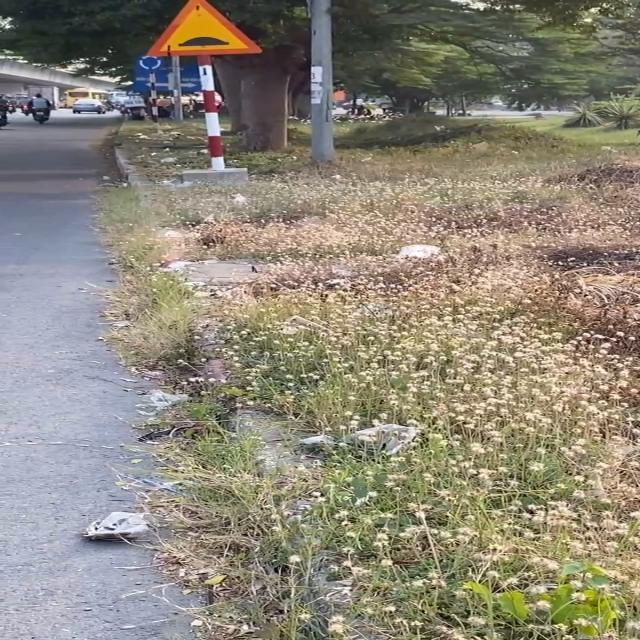221-duong-go-ghe: (146, 0, 262, 57)
303-noi-giao-nhau-chay-theo-vong-xuyen: (138, 53, 162, 71)
